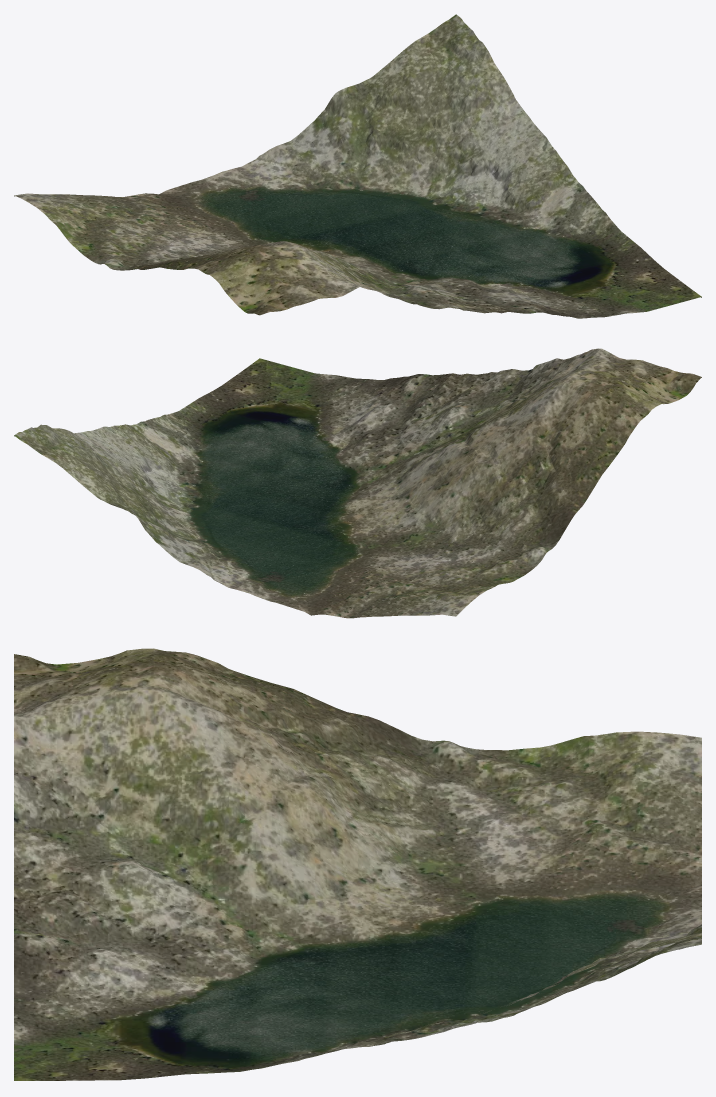
3 renders of one model, top to bottom at view 1: azimuth 30°, elevation 25°; view 2: azimuth 150°, elevation 25°; view 3: azimuth 270°, elevation 25°, orthographic. The views are drawn at different scales.
Bounding box in the file's own units: 1000 × 240 × 963.
Materials: 1 (1 with a texture image).
